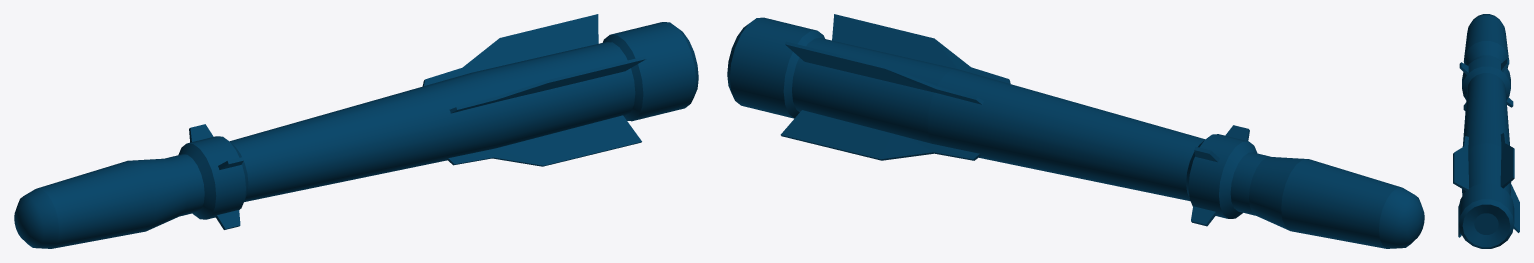
The model's file is Big_missile_v1.FBX.
3 views of the same model, side by side, from view 1: azimuth 30°, elevation 25°; view 2: azimuth 150°, elevation 25°; view 3: azimuth 270°, elevation 25° (orthographic). The views are drawn at different scales.
Visible parts, largest first — view 1: Big_missile_v1; view 2: Big_missile_v1; view 3: Big_missile_v1.
Boxes of the visible parts, box(x1,y1,x2,y2) form: Big_missile_v1: box(14, 14, 698, 248); Big_missile_v1: box(727, 14, 1424, 248); Big_missile_v1: box(1453, 14, 1519, 248).
Size of the model in its own units: 29 by 4.09 by 4.09.
